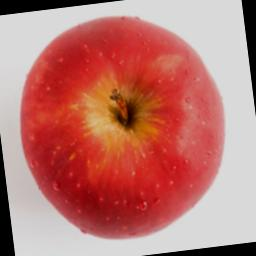Apple Ripe: (0, 9, 250, 256)
